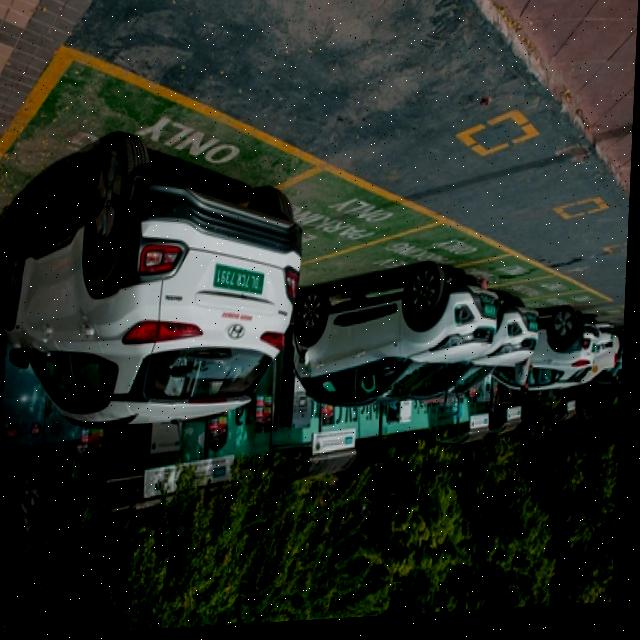plate: (212, 264, 275, 303), (486, 308, 505, 327), (531, 328, 542, 339)
